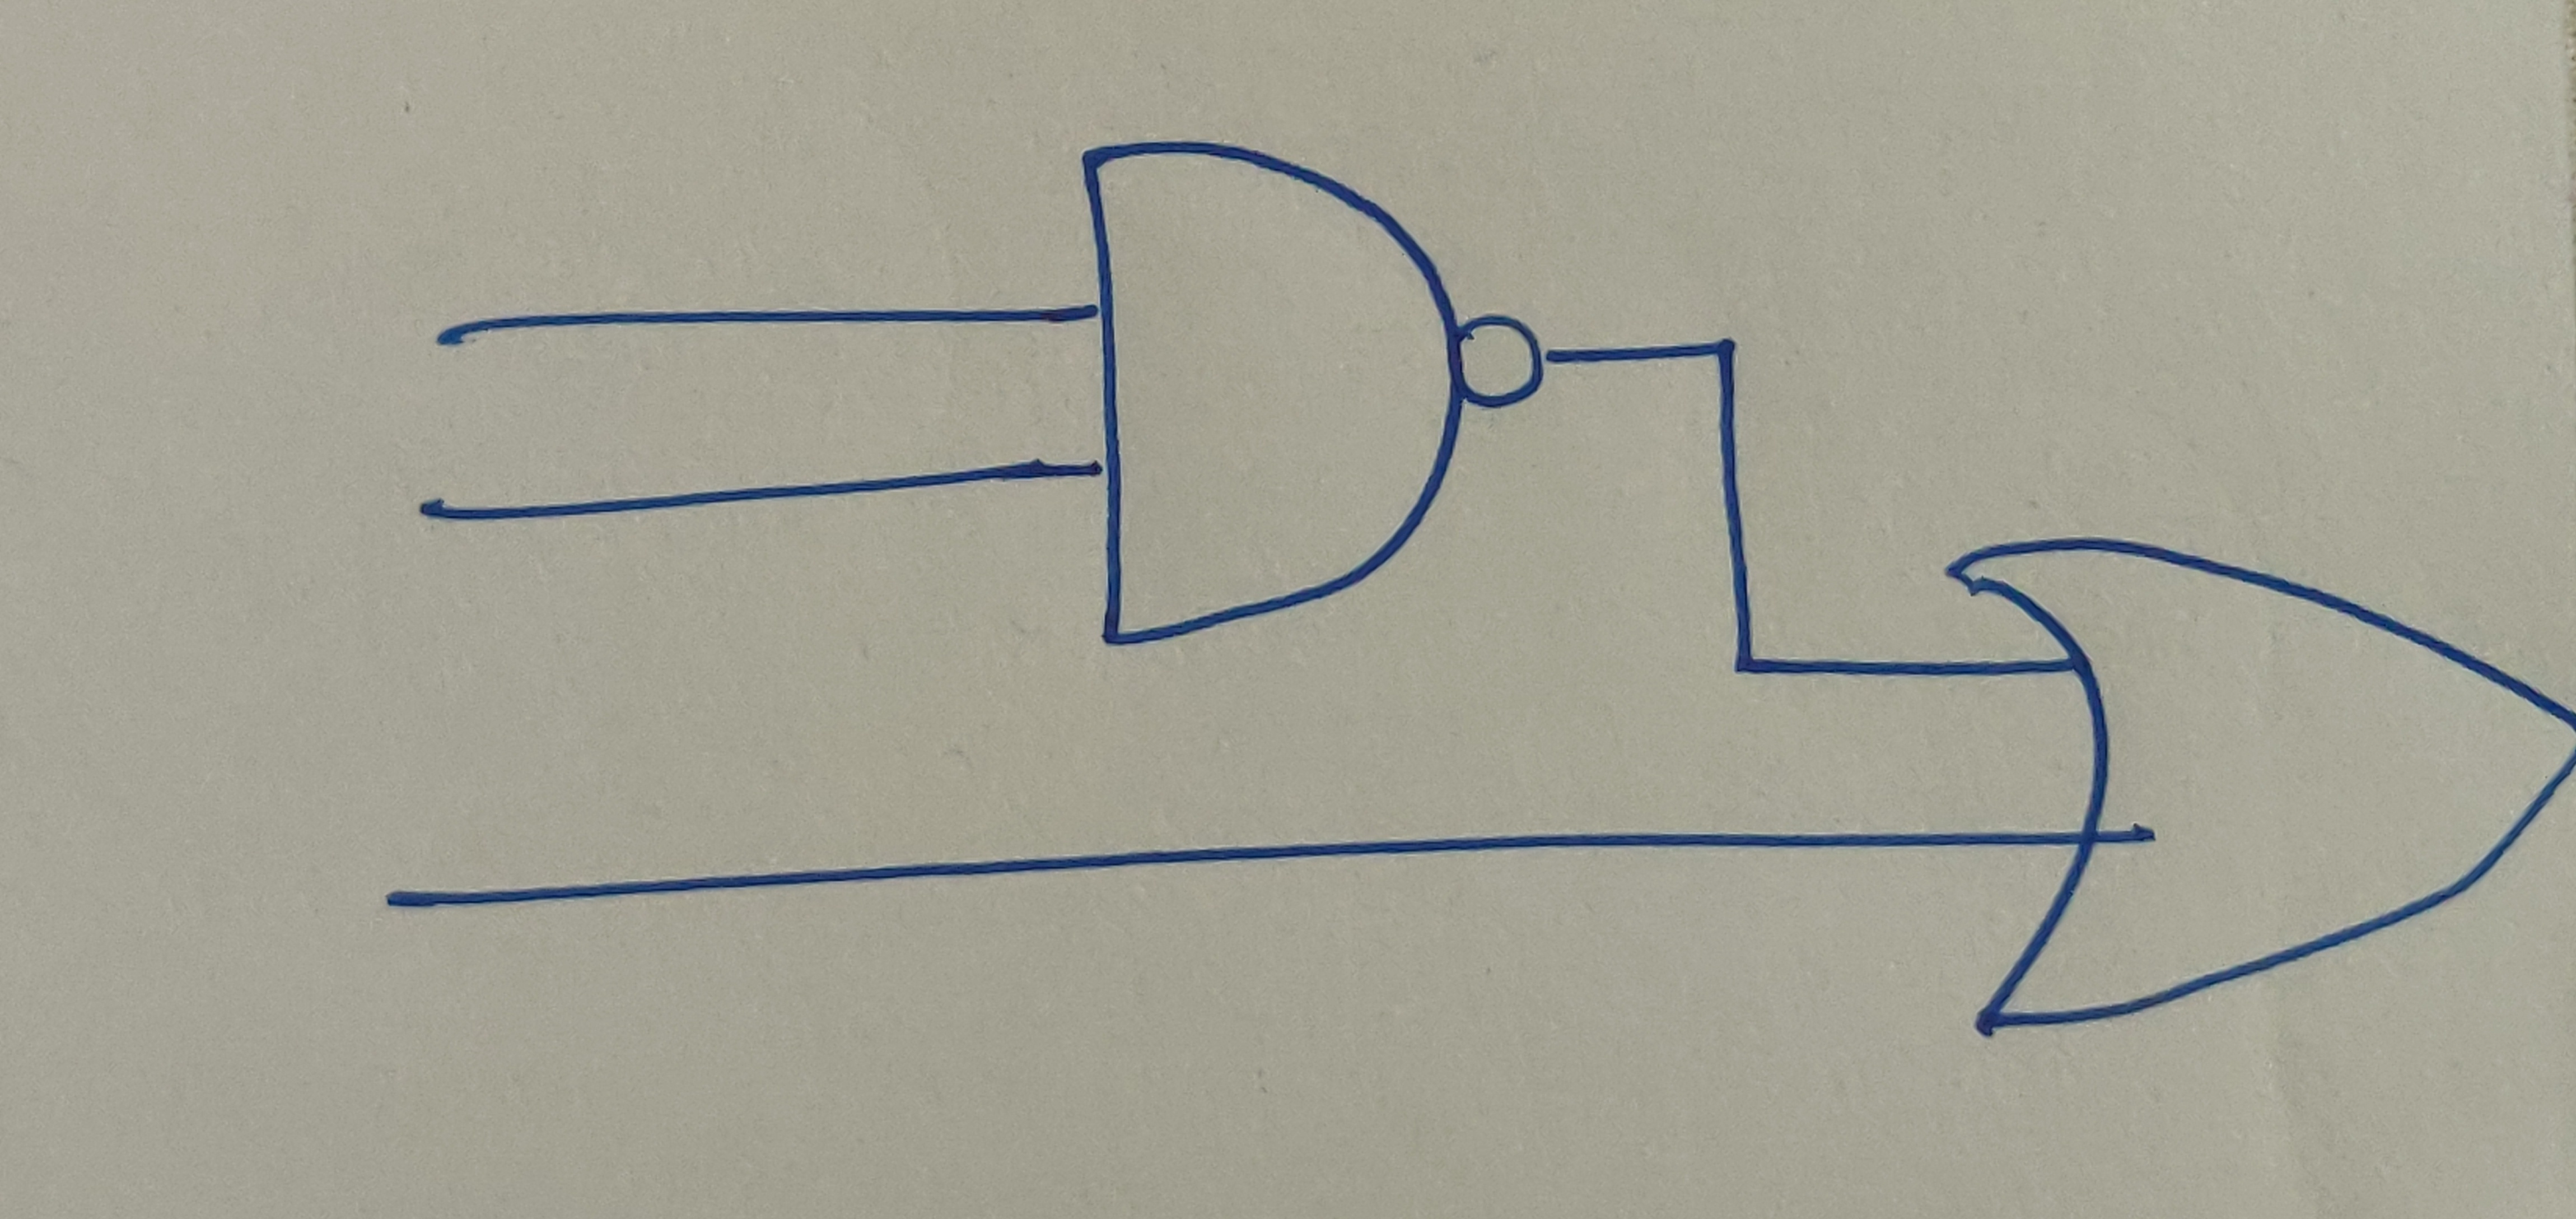and: (1073, 138, 1469, 642)
not: (1456, 315, 1544, 416)
or: (1940, 534, 2576, 1027)
